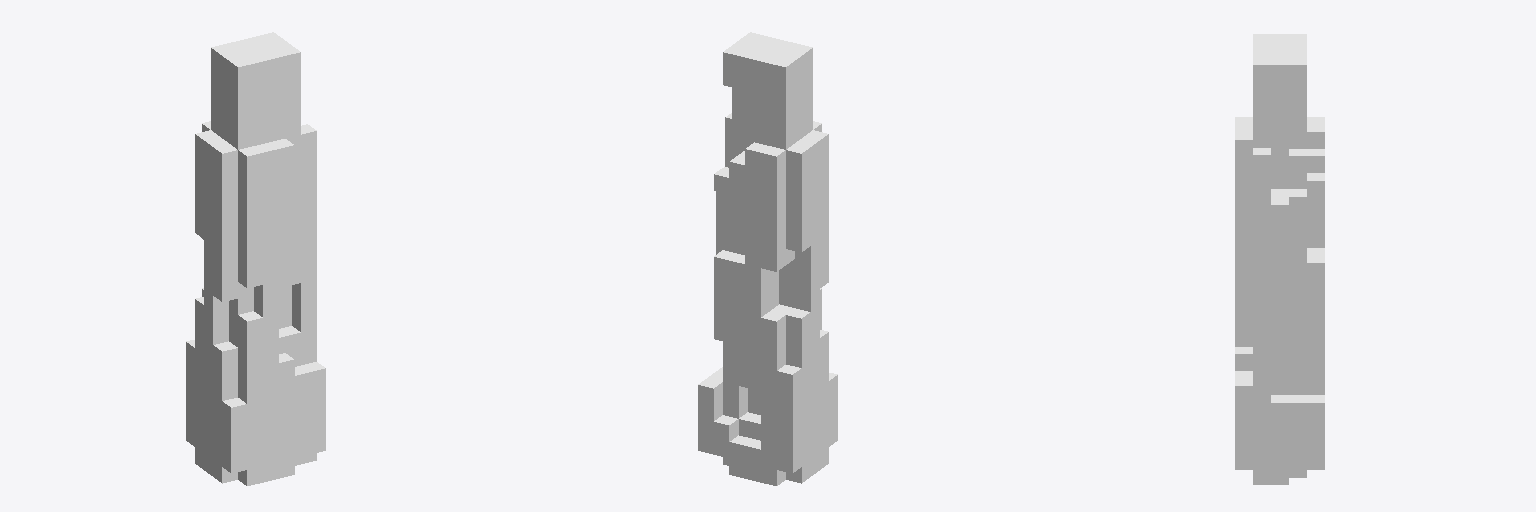
Rendered from mob1-3.obj.
3 views of the same model, side by side, from view 1: azimuth 30°, elevation 25°; view 2: azimuth 150°, elevation 25°; view 3: azimuth 270°, elevation 25° (orthographic).
Visible parts, largest first — view 1: object 1; view 2: object 1; view 3: object 1.
Part boxes in pixels (x1,y1,x2,y2): object 1: (186,32,325,485); object 1: (698,32,837,485); object 1: (1235,34,1324,484).
Size of the model in its own units: 0.6 by 2.5 by 0.5.